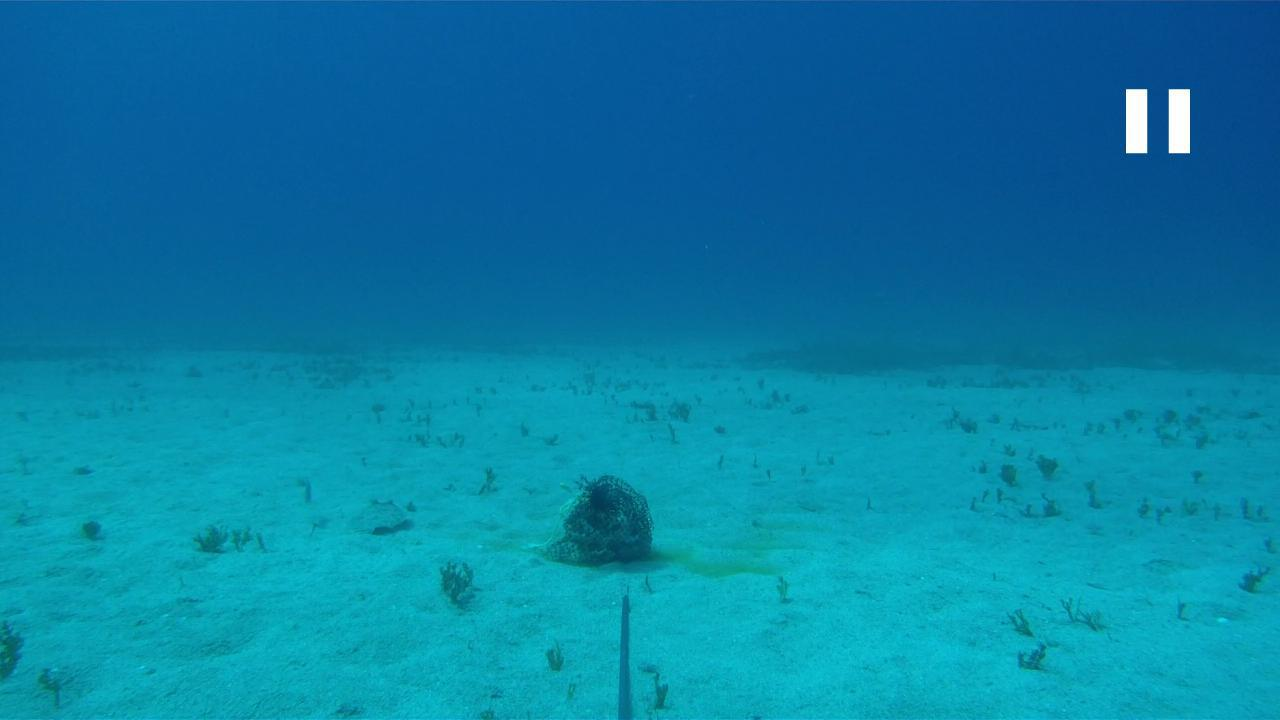bothus: (347, 499, 413, 534)
